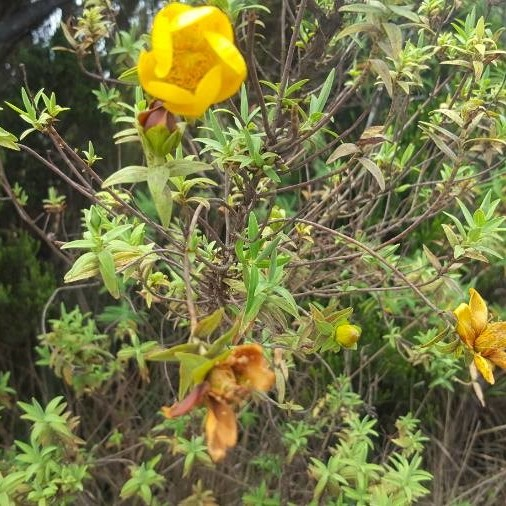obstacle: (101, 21, 476, 458)
